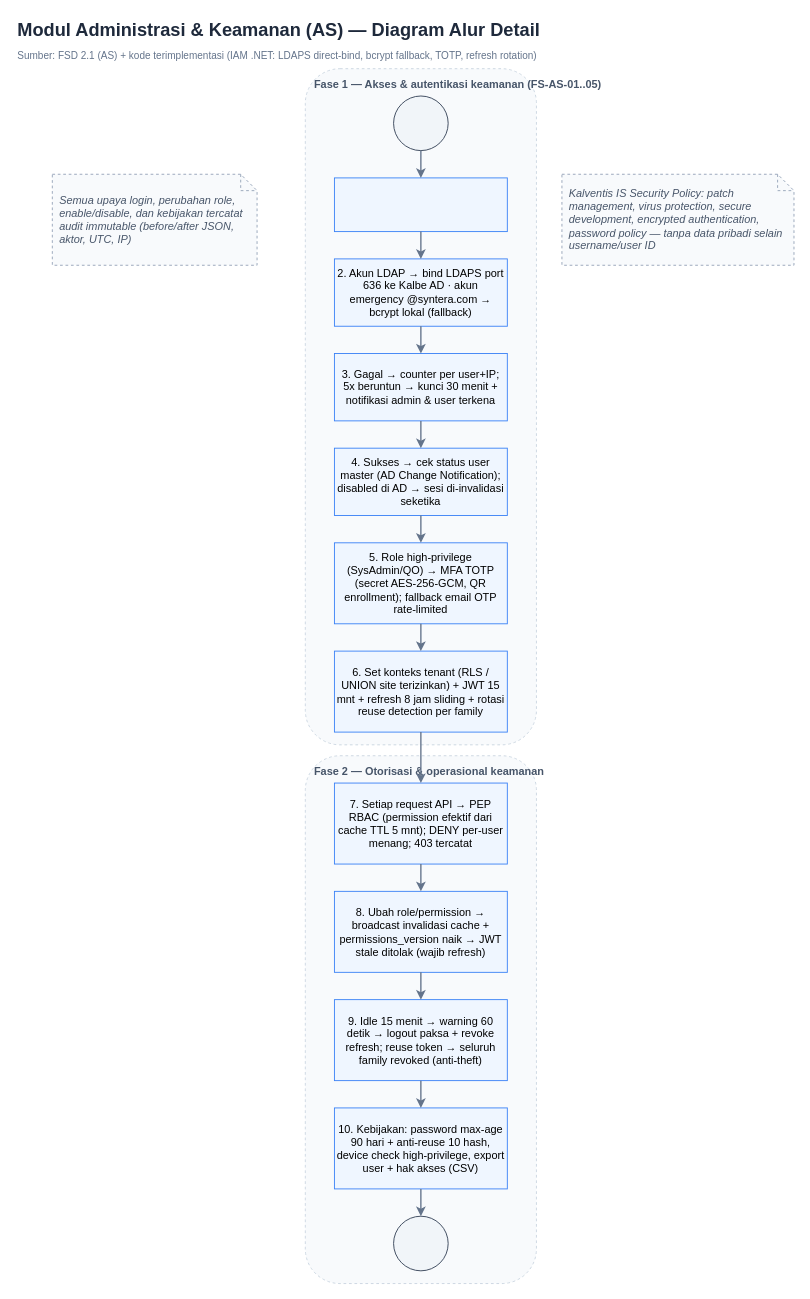
This 810x1299 diagram has some shape labels left out. Each missing label, with the centre of its shape:
"1. HTTPS (TLS 1.3 dipaksa di load balancer); resolve domain email → site/tenant" belongs at (x=420, y=204).
"Mulai" belongs at (x=420, y=123).
"Selesai" belongs at (x=420, y=1243).
